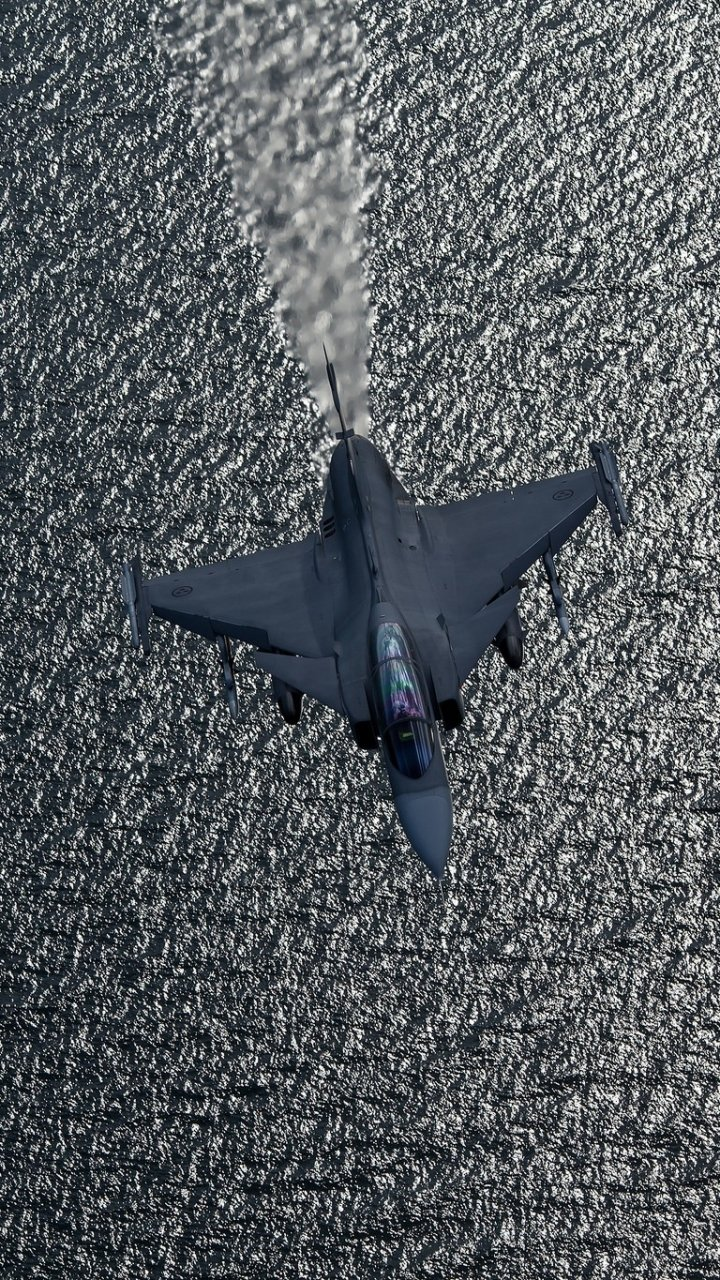JAS39: (117, 341, 629, 911)
